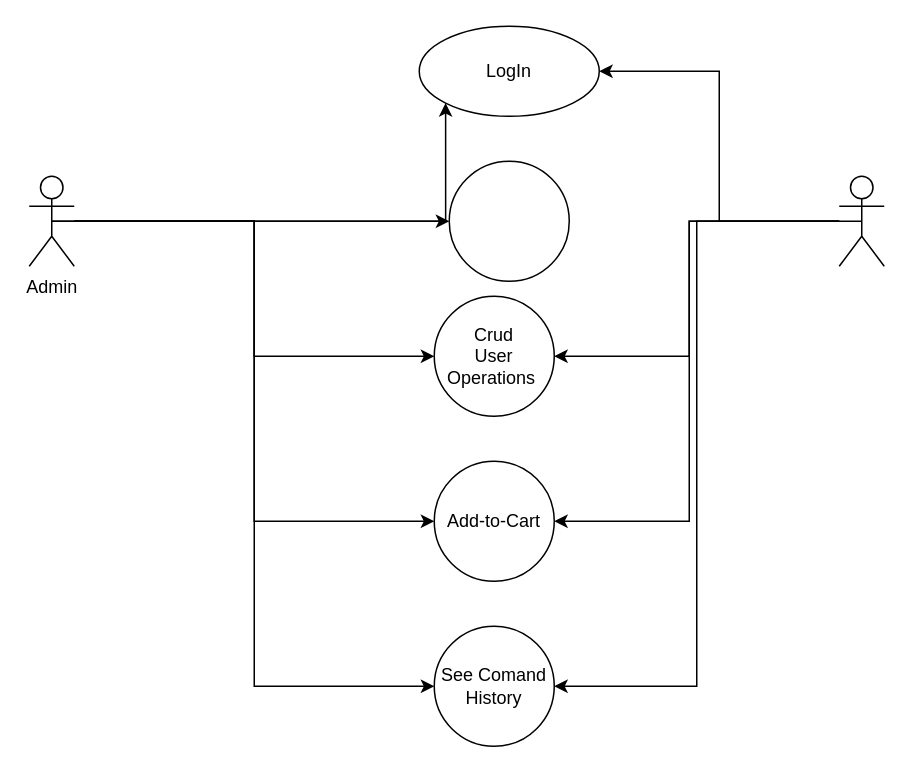
Some shapes in this 911 by 773 pixel diagram are drawn without their labels. The centre of each missing label's shape, as x and y in pixels:
"Crud Item Operations" belongs at point (508, 220).
"User" belongs at point (861, 220).
